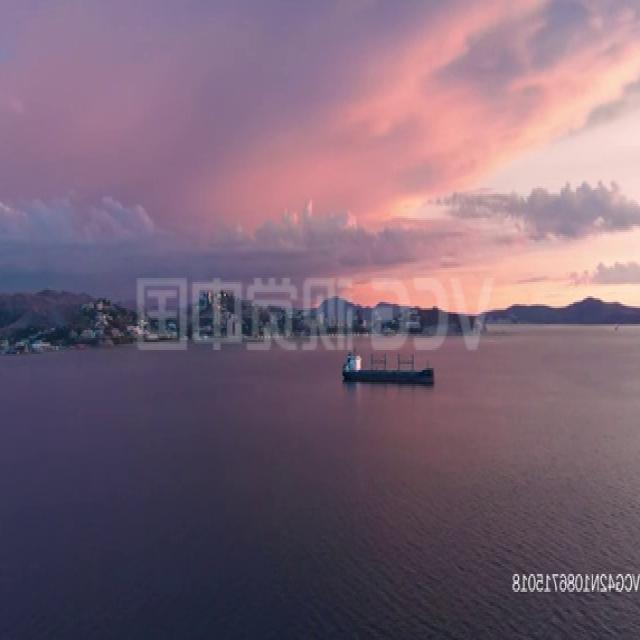fishing boat: (340, 348, 437, 389)
